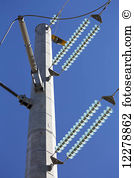isolator: (54, 99, 113, 161), (52, 18, 100, 70), (50, 14, 59, 25)
